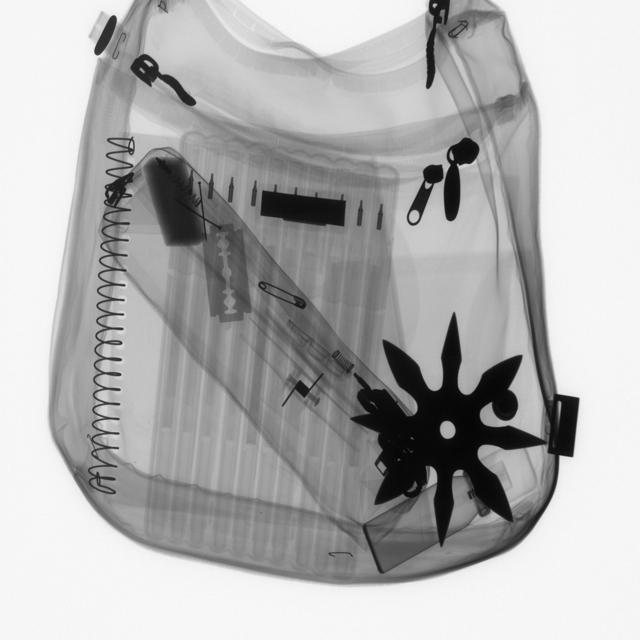razor: (198, 218, 258, 332)
shuriken: (361, 311, 543, 540)
